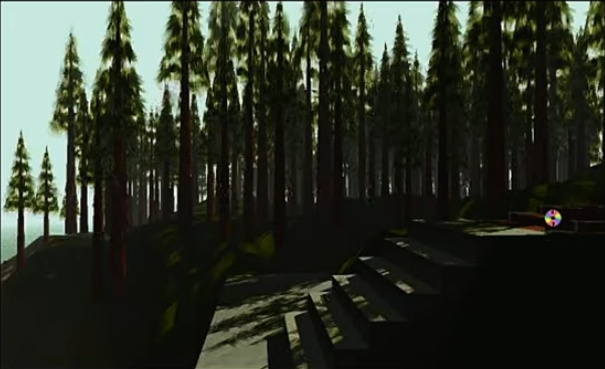Waiting: (542, 206, 564, 228)
